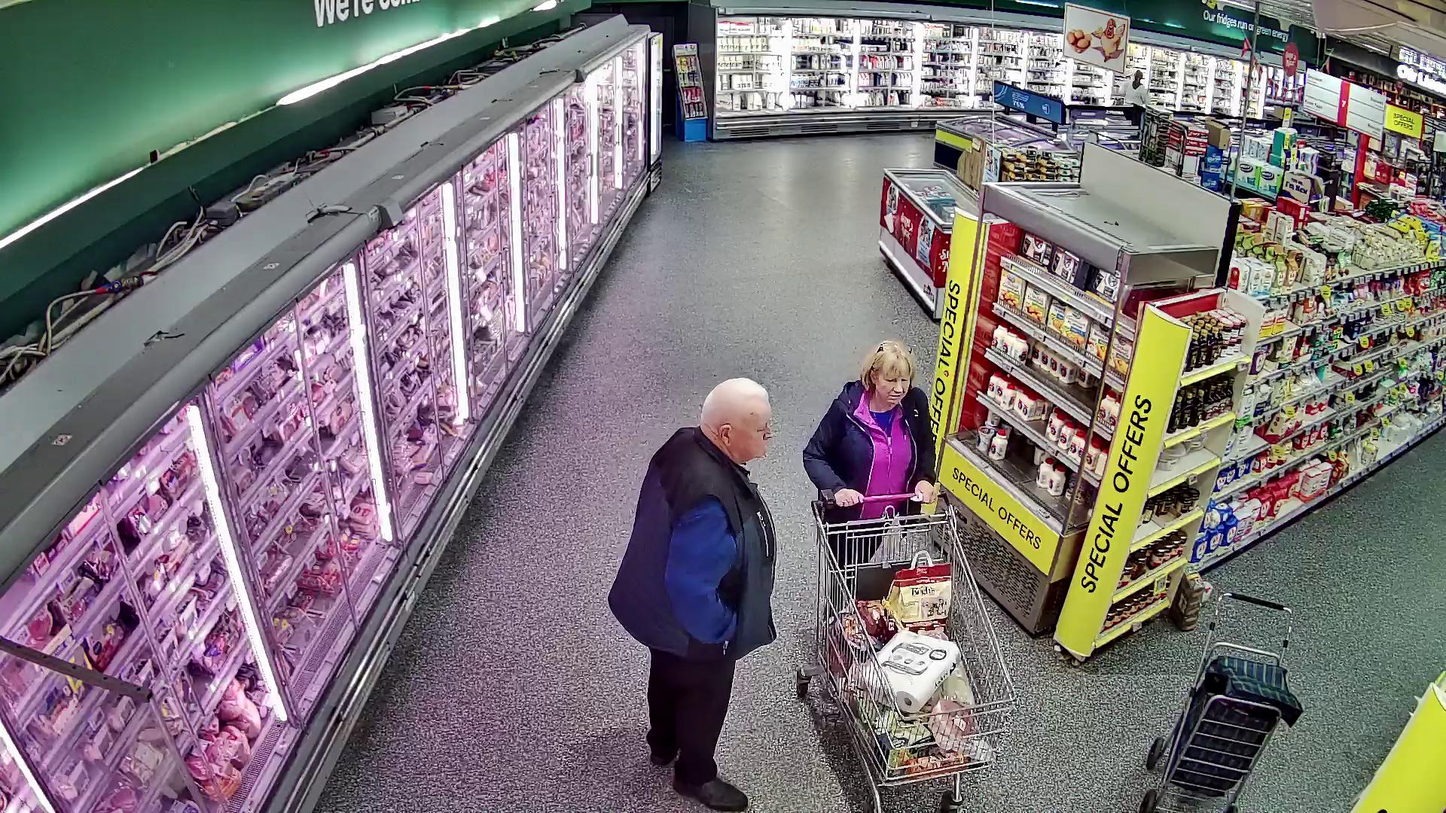filled-trolly: (795, 489, 1015, 813)
person: (802, 341, 937, 563)
person-with-filled-basket-trolly: (795, 340, 1016, 813)
